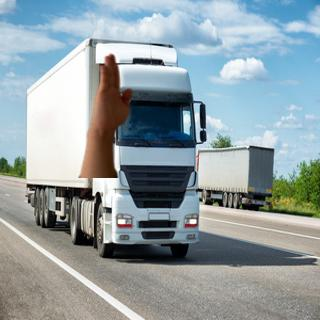RIGHT: (83, 50, 136, 140)
